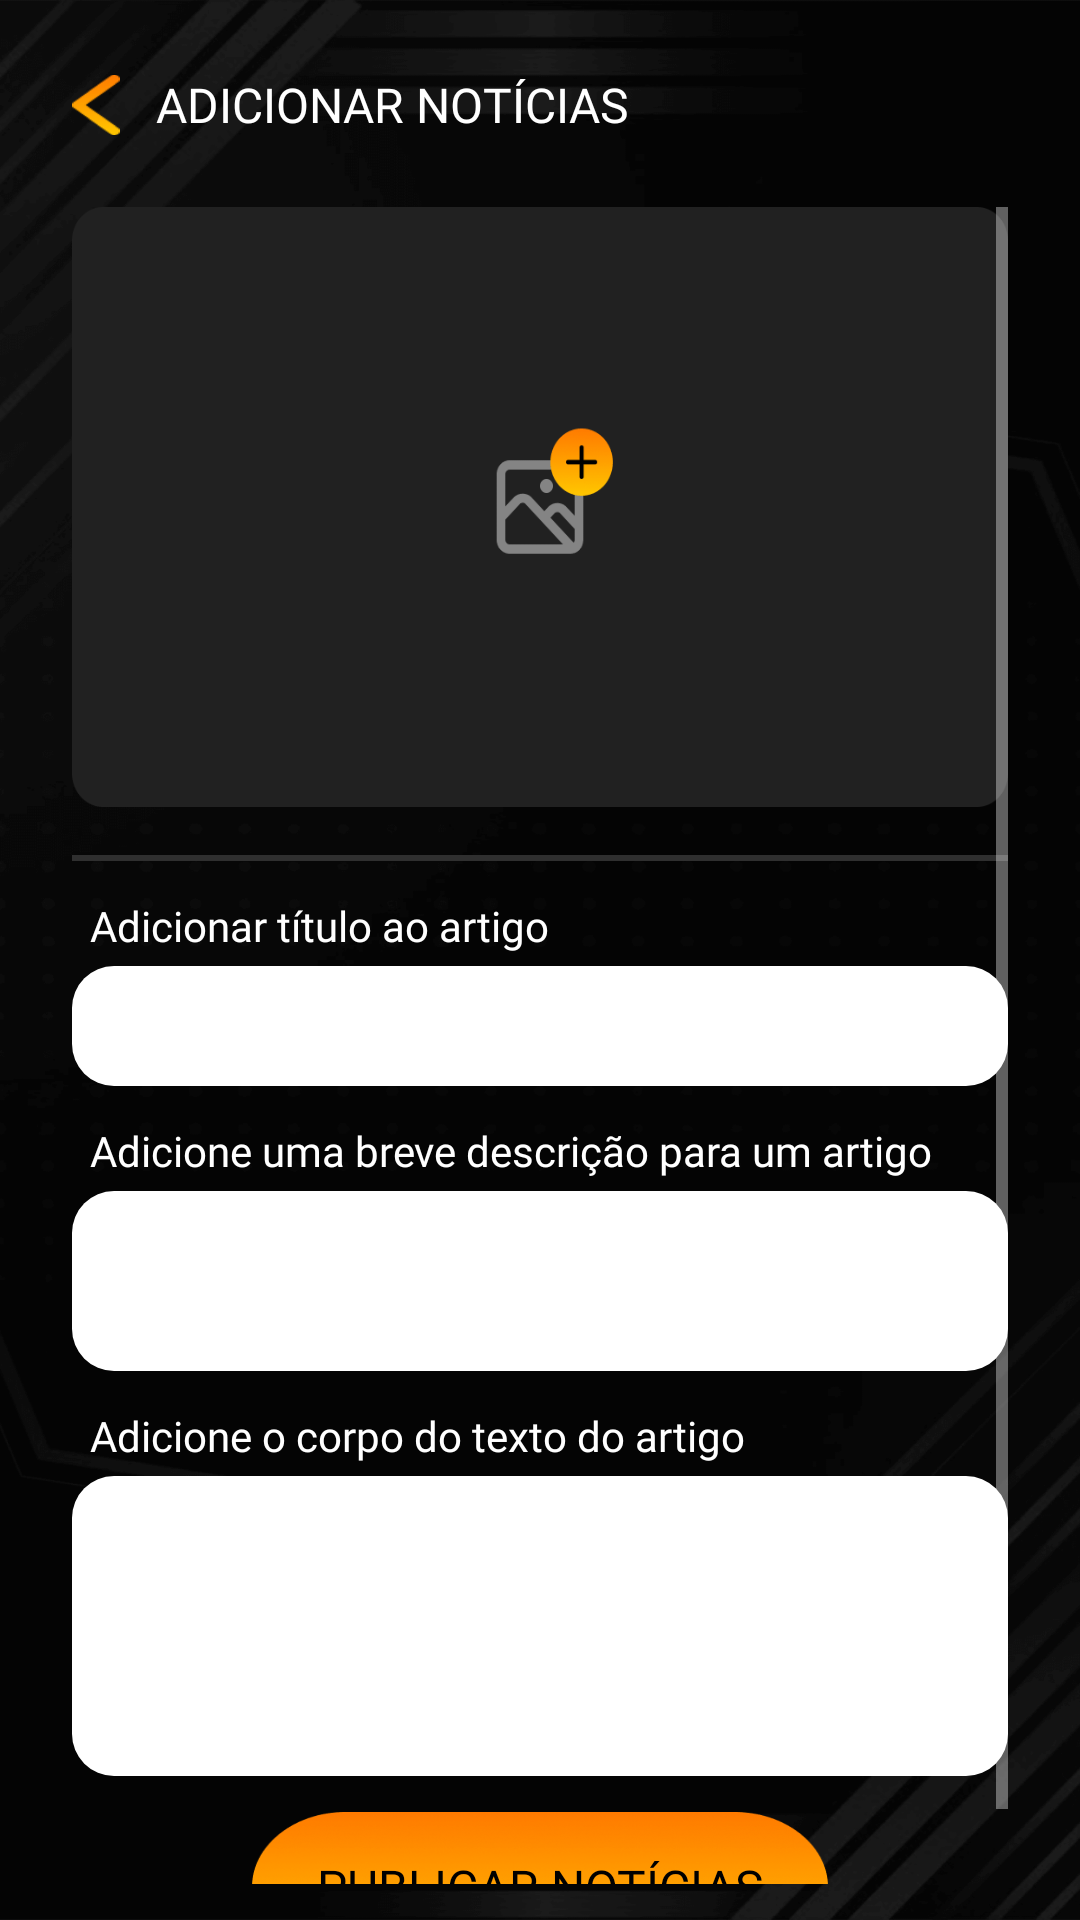

Screen size 1080*1920. Icon name, then its box in pixels as detection(x1, y1, x2, y2):
back arrow kaverdarm: detection(72, 75, 120, 135)
